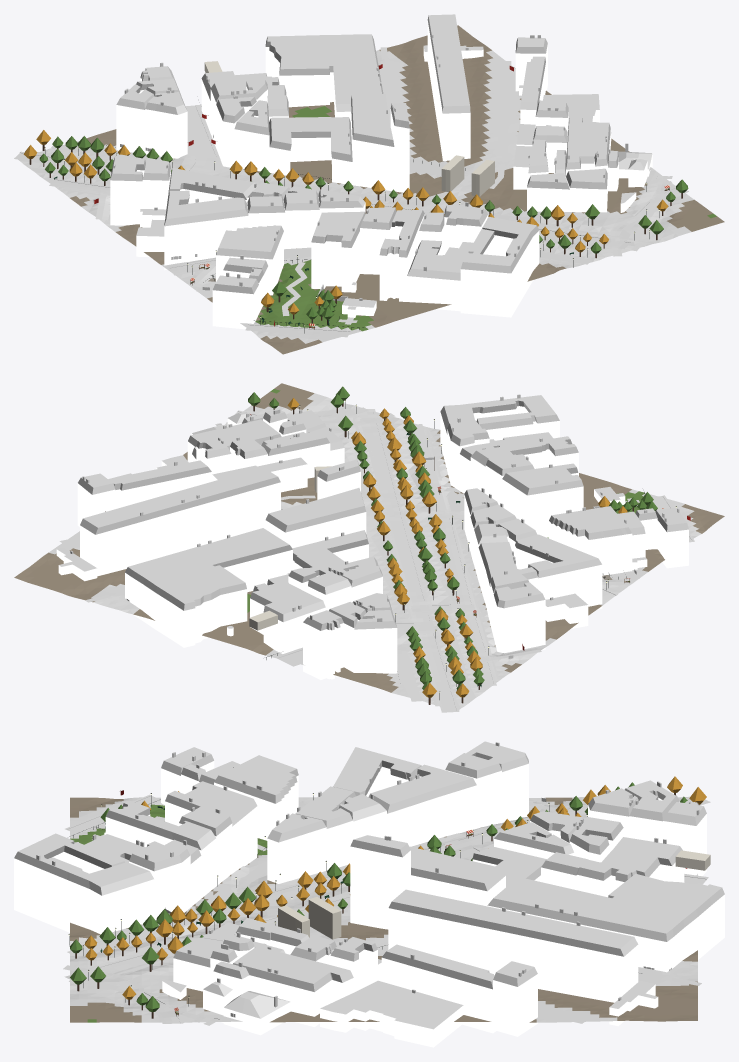
The model's file is zone_E6.glb.
3 renders of one model, top to bottom at view 1: azimuth 30°, elevation 25°; view 2: azimuth 150°, elevation 25°; view 3: azimuth 270°, elevation 25°, orthographic. The views are drawn at different scales.
Visible parts, largest first — view 1: zone_E6_batiments, zone_E6_terrain, zone_E6_sol_NOCOL, zone_E6_decor_NOCOL; view 2: zone_E6_batiments, zone_E6_terrain, zone_E6_sol_NOCOL, zone_E6_decor_NOCOL; view 3: zone_E6_batiments, zone_E6_terrain, zone_E6_decor_NOCOL, zone_E6_sol_NOCOL.
Part boxes in pixels (left/top/right/bottom): zone_E6_batiments: left=110, top=14, right=652, bottom=329; zone_E6_terrain: left=18, top=25, right=724, bottom=354; zone_E6_sol_NOCOL: left=14, top=47, right=688, bottom=337; zone_E6_decor_NOCOL: left=23, top=130, right=688, bottom=333; zone_E6_batiments: left=56, top=394, right=688, bottom=679; zone_E6_terrain: left=14, top=383, right=724, bottom=709; zone_E6_sol_NOCOL: left=59, top=406, right=694, bottom=712; zone_E6_decor_NOCOL: left=248, top=386, right=676, bottom=704; zone_E6_batiments: left=14, top=741, right=724, bottom=1047; zone_E6_terrain: left=70, top=796, right=697, bottom=1022; zone_E6_decor_NOCOL: left=68, top=776, right=706, bottom=1018; zone_E6_sol_NOCOL: left=63, top=794, right=710, bottom=1025.
Bounding box in the file's own units: 221 × 40.78 × 238.
